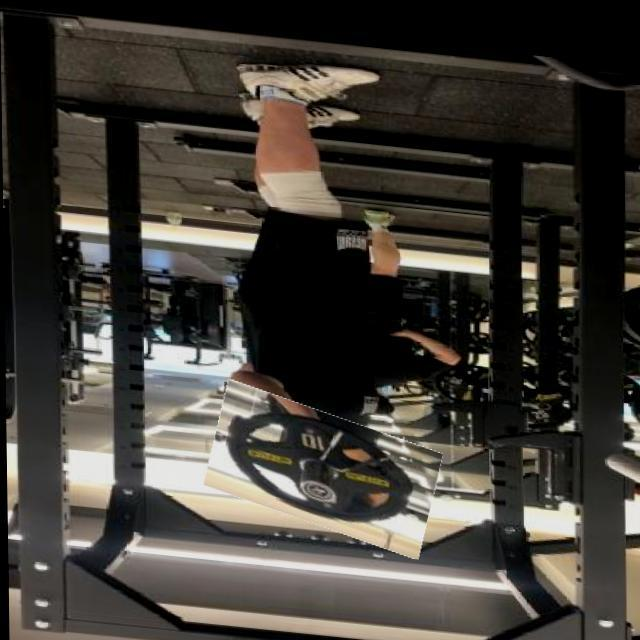barbell: (207, 385, 439, 541)
